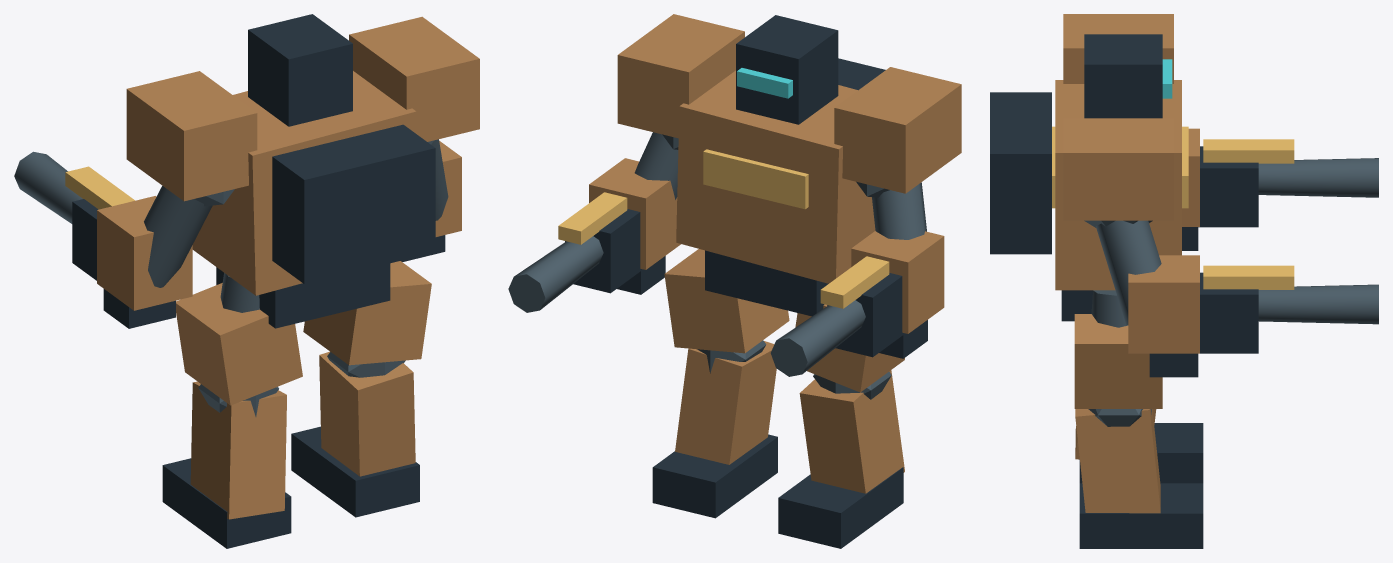
Rendered from frame-raleigh.glb.
3 views of the same model, side by side, from view 1: azimuth 30°, elevation 25°; view 2: azimuth 150°, elevation 25°; view 3: azimuth 270°, elevation 25° (orthographic). The views are drawn at different scales.
Parts seen in each view (by area): view 1: frame-raleigh; view 2: frame-raleigh; view 3: frame-raleigh.
Boxes of the visible parts, left/top/right/bottom form: frame-raleigh: left=14, top=14, right=479, bottom=548; frame-raleigh: left=508, top=14, right=961, bottom=548; frame-raleigh: left=990, top=14, right=1378, bottom=548.
Size of the model in its own units: 1.12 by 1.54 by 1.2.
